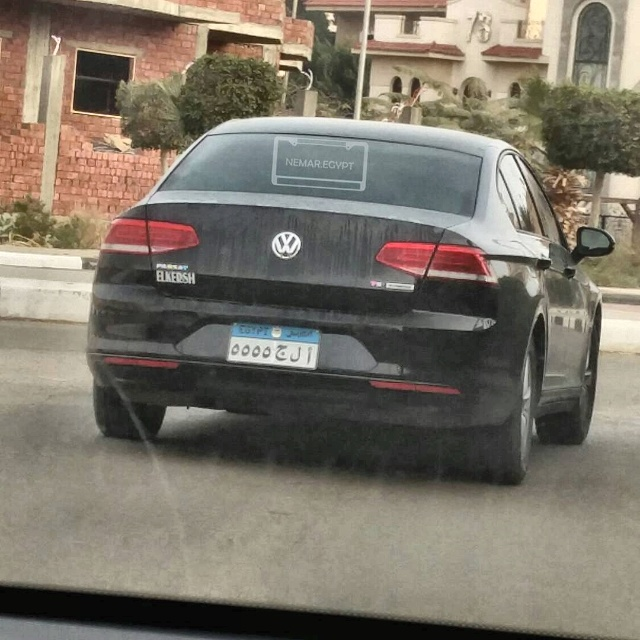License Plate: (222, 318, 324, 372)
